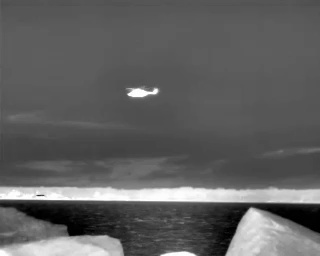HELICOPTER: (121, 80, 165, 103)
